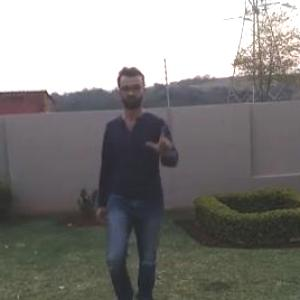land_hand: (141, 112, 178, 157)
